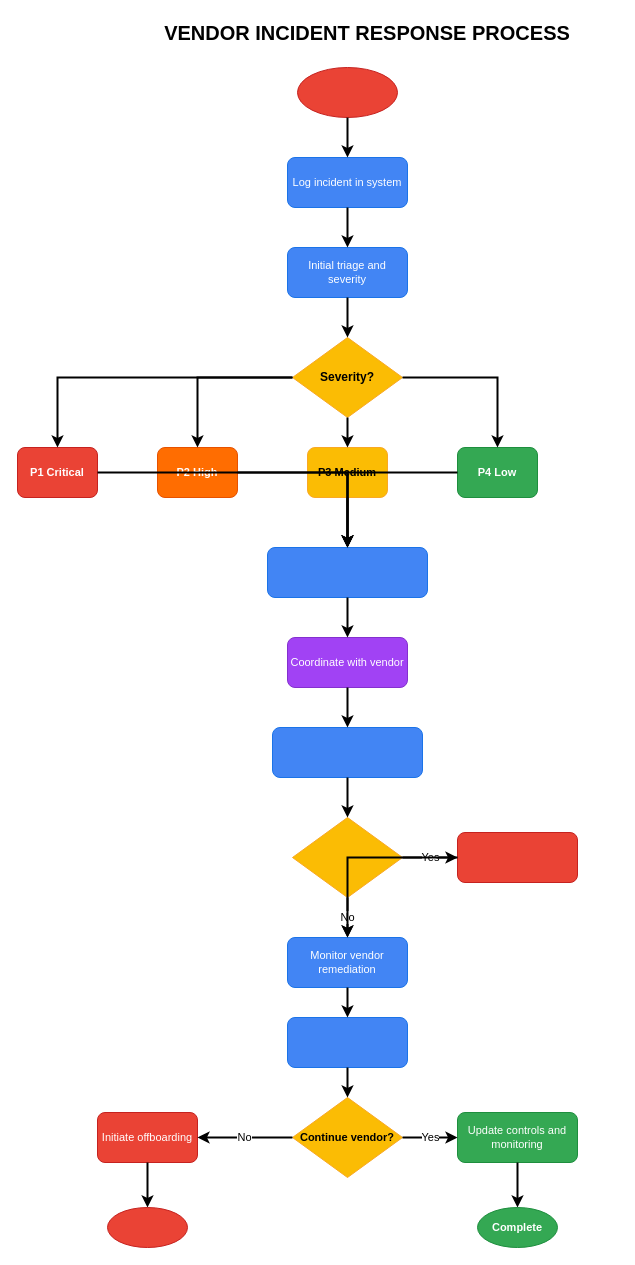
This 635x1265 diagram has some shape labels left out. Here are the shapes that lost their labels. From the top down, the box of each, then its label:
(296, 66, 398, 118): Incident Detected
(266, 546, 428, 598): Notify stakeholders per severity SLA
(272, 726, 422, 778): Assess impact to our data operations
(292, 816, 402, 898): Our data affected?
(456, 832, 578, 882): Activate internal IR process
(286, 1016, 408, 1068): Post-incident review
(106, 1206, 188, 1248): End
